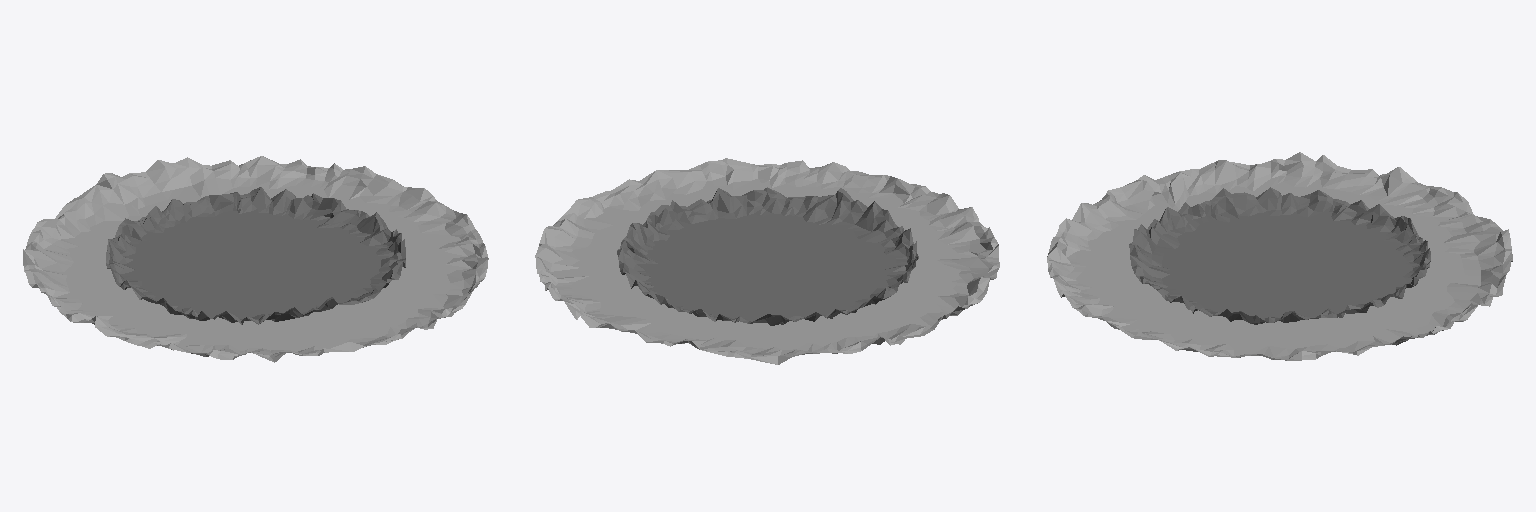
File: landscape.obj
3 renders of one model, left to right at view 1: azimuth 30°, elevation 25°; view 2: azimuth 150°, elevation 25°; view 3: azimuth 270°, elevation 25°, orthographic.
Visible parts, largest first — view 1: Plane003, Plane001; view 2: Plane003, Plane001; view 3: Plane003, Plane001.
Part boxes in pixels (x1,y1,x2,y2): Plane003: (23,156,488,362); Plane001: (106,187,405,324); Plane003: (535,158,999,364); Plane001: (617,187,918,325); Plane003: (1047,152,1512,360); Plane001: (1129,187,1430,324).
Size of the model in its own units: 171 by 10.19 by 171.